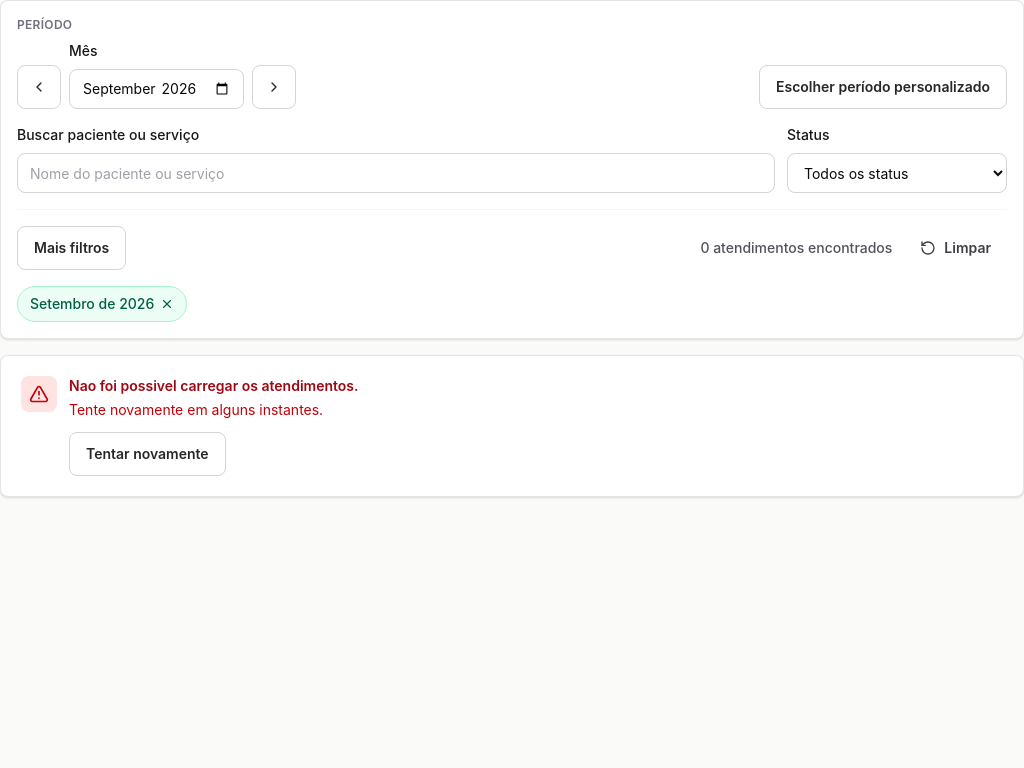
Test case: fluxo integrado da UX mobile › mantém a recuperação da agenda e as variantes desktop/mobile
The image size is (1024, 768).
Step 1. Click the button "Tentar novamente" → (147, 454), box [69,432,226,476]
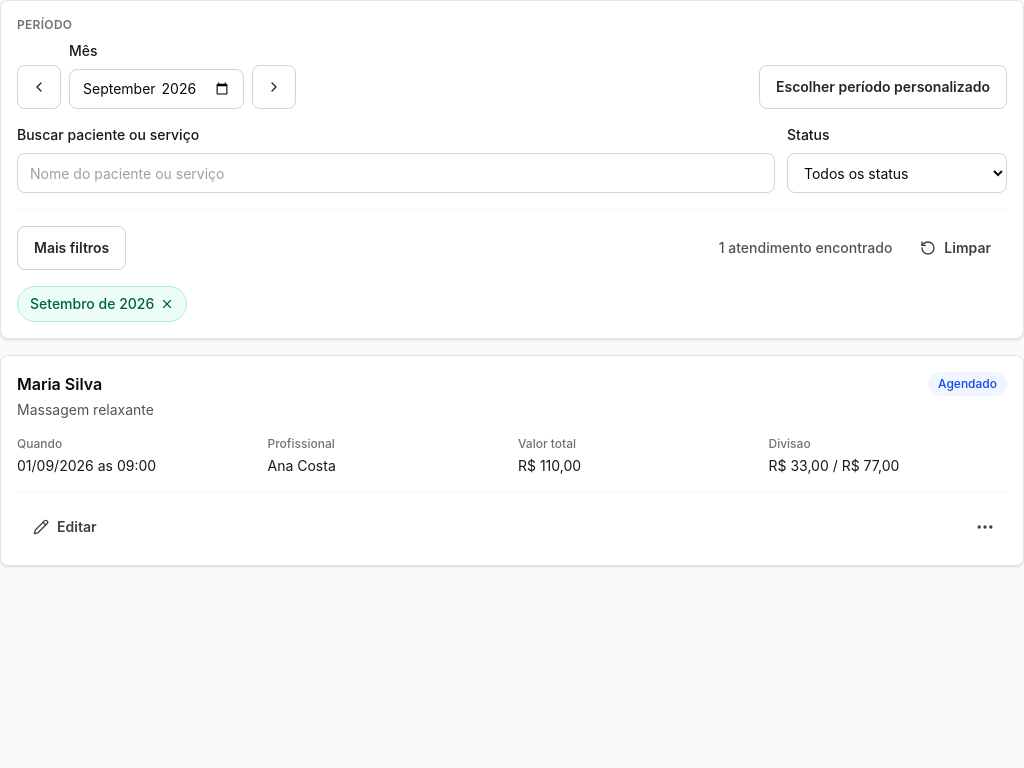
Now the message "Nao foi possivel carregar os atendimentos. Tente novamente em alguns instantes." is gone
